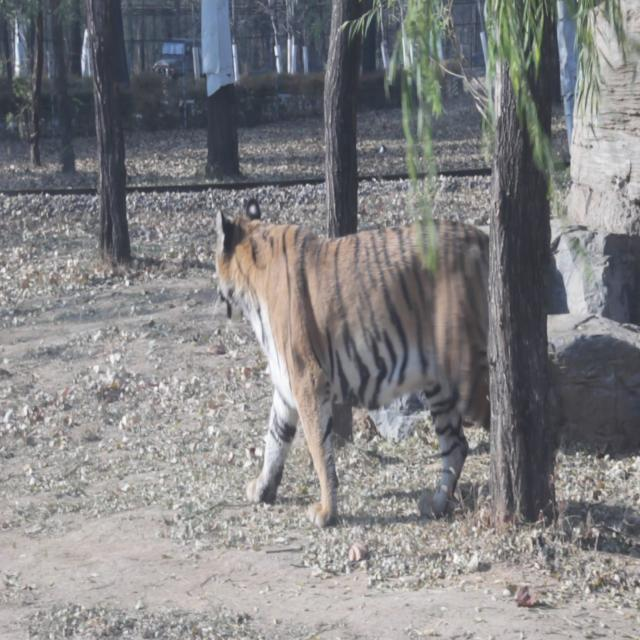Tiger: (204, 177, 562, 528)
